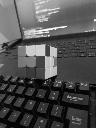rubik: (17, 44, 57, 80)
